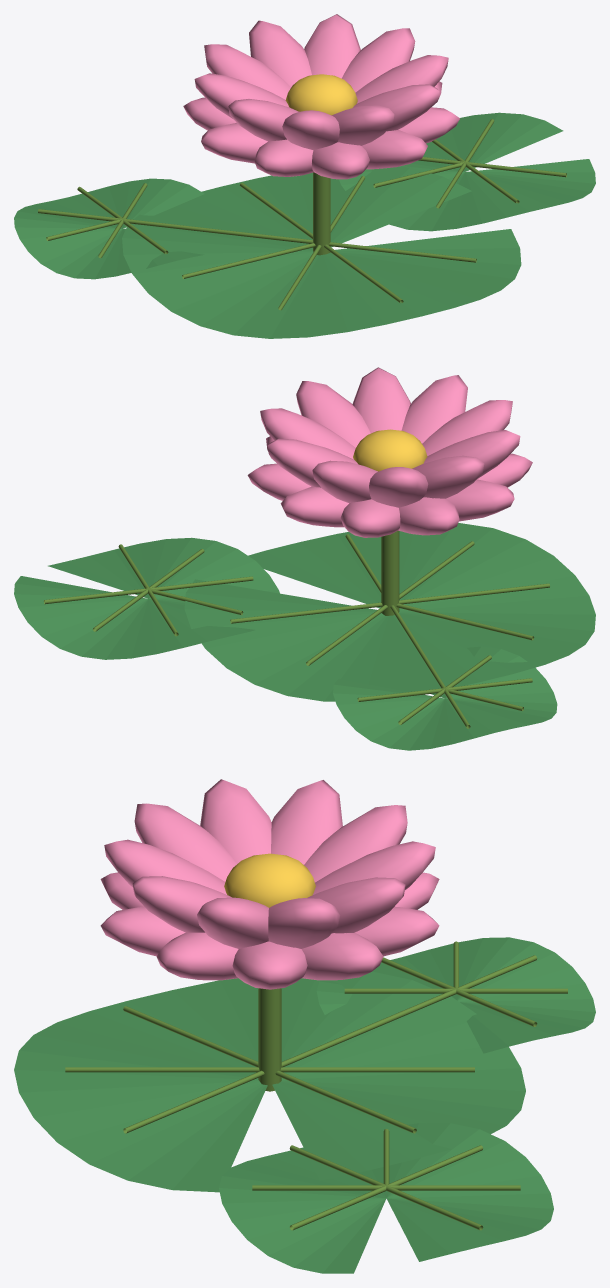
The model's file is lotus.glb.
3 views of the same model, one above another, from view 1: azimuth 30°, elevation 25°; view 2: azimuth 150°, elevation 25°; view 3: azimuth 270°, elevation 25° (orthographic). The views are drawn at different scales.
Parts seen in each view (by area): view 1: lotus; view 2: lotus; view 3: lotus.
Part boxes in pixels (left/top/right/bottom): lotus: left=14, top=14, right=595, bottom=338; lotus: left=14, top=367, right=595, bottom=750; lotus: left=14, top=779, right=595, bottom=1273.
Size of the model in its own units: 1.65 by 0.589 by 1.25.
